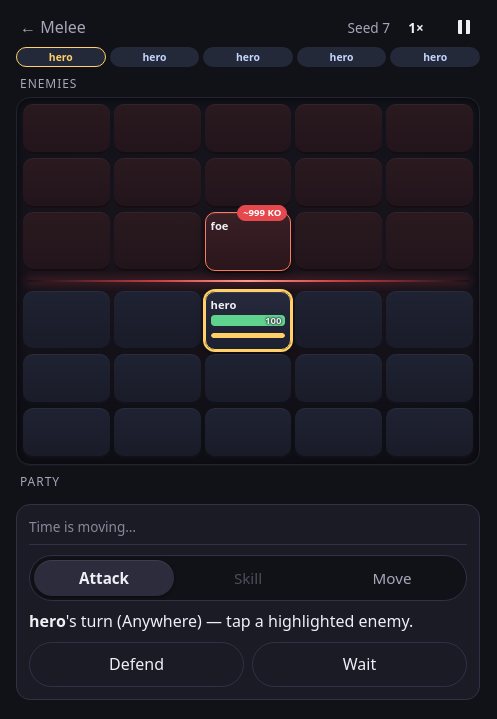
Test: BattleScreen › given a winning blow, when the battle runs out, then it is a victory with no restart
The image size is (497, 719).
Expected: the element named "Action" is shown, [29,555,467,601]
Click the cell named "Attack foe" at [248, 241], box [205,212,291,271]
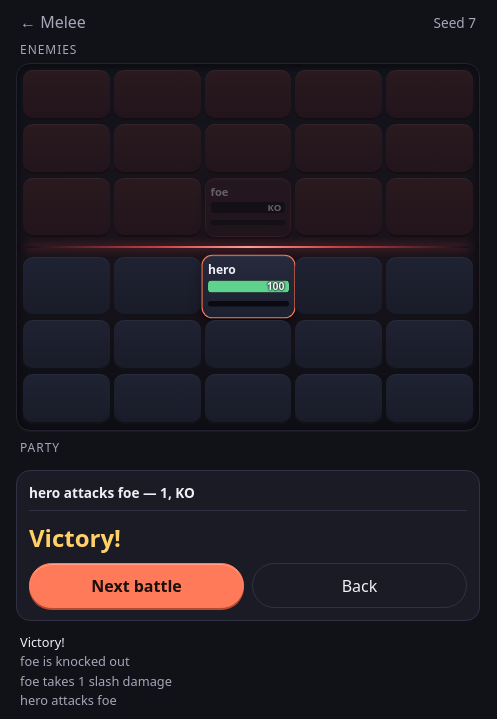
Now the text with class "result" reads "Victory!", box [29,521,121,554]
